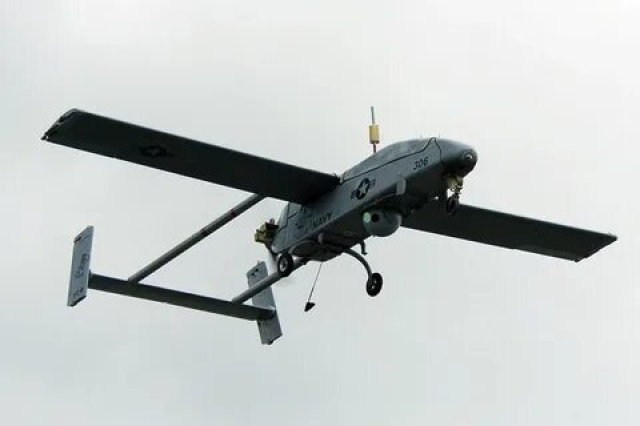military drone: (40, 106, 618, 345)
